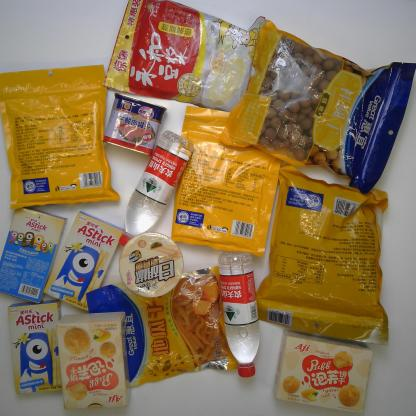Canned Food: (106, 94, 167, 157)
Dessert: (268, 328, 374, 414), (40, 208, 125, 314), (53, 309, 131, 412), (0, 202, 68, 309), (2, 298, 69, 400)
Dried Food: (218, 21, 416, 195), (246, 166, 391, 348)
Dried Fruit: (84, 262, 242, 390), (166, 104, 286, 258), (0, 67, 123, 209)
Drink: (116, 129, 196, 251), (214, 250, 262, 381)
Instant Drink: (100, 0, 264, 113)
Instant Noodles: (120, 233, 188, 296)
